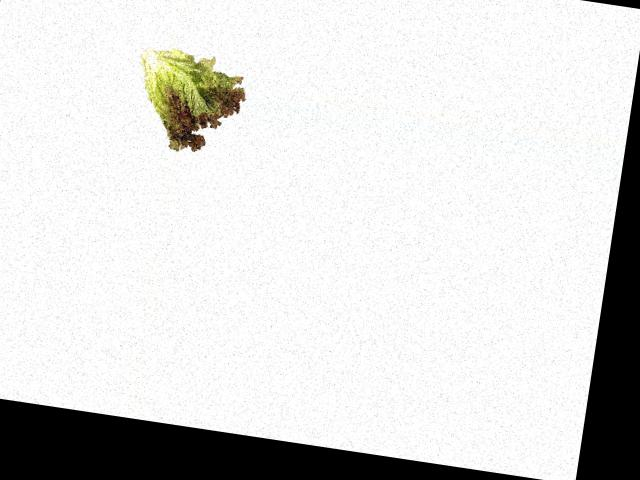lettuce: (129, 45, 251, 158)
